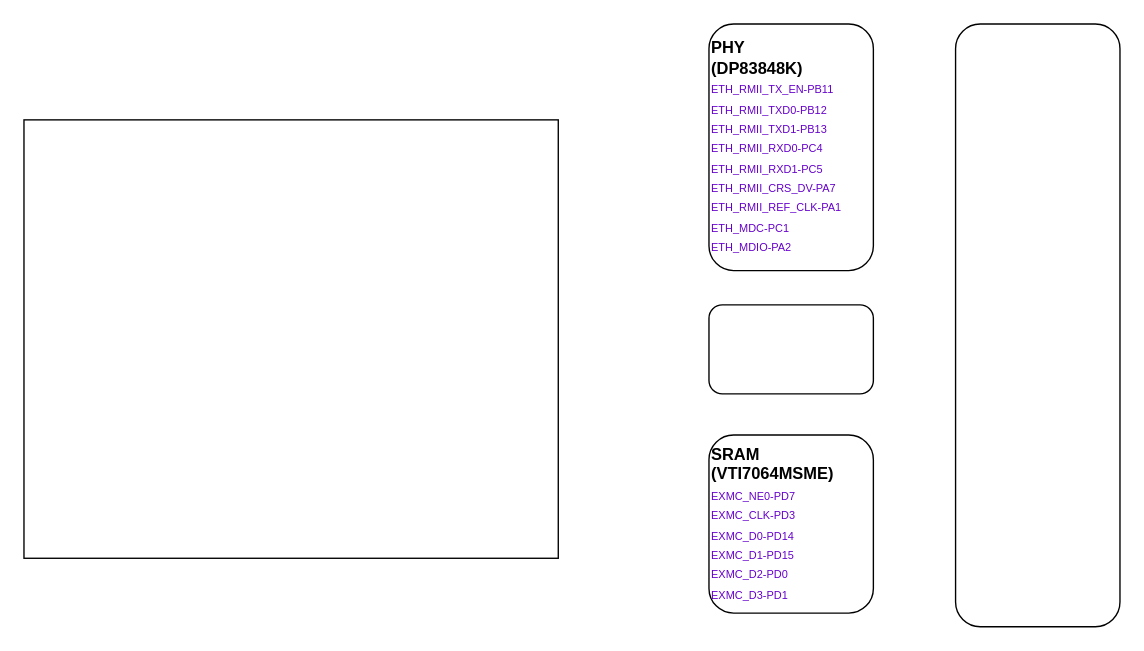
Some shapes in this 1144 by 651 pixel diagram are drawn without their labels. Each missing label, with the centre of its shape:
"EEPROM (AT24CM01-SSHD-T) WP-PA9 SCL-PA8 SDA-PC9" goes at (790,348).
"MCU" goes at (1037,325).
